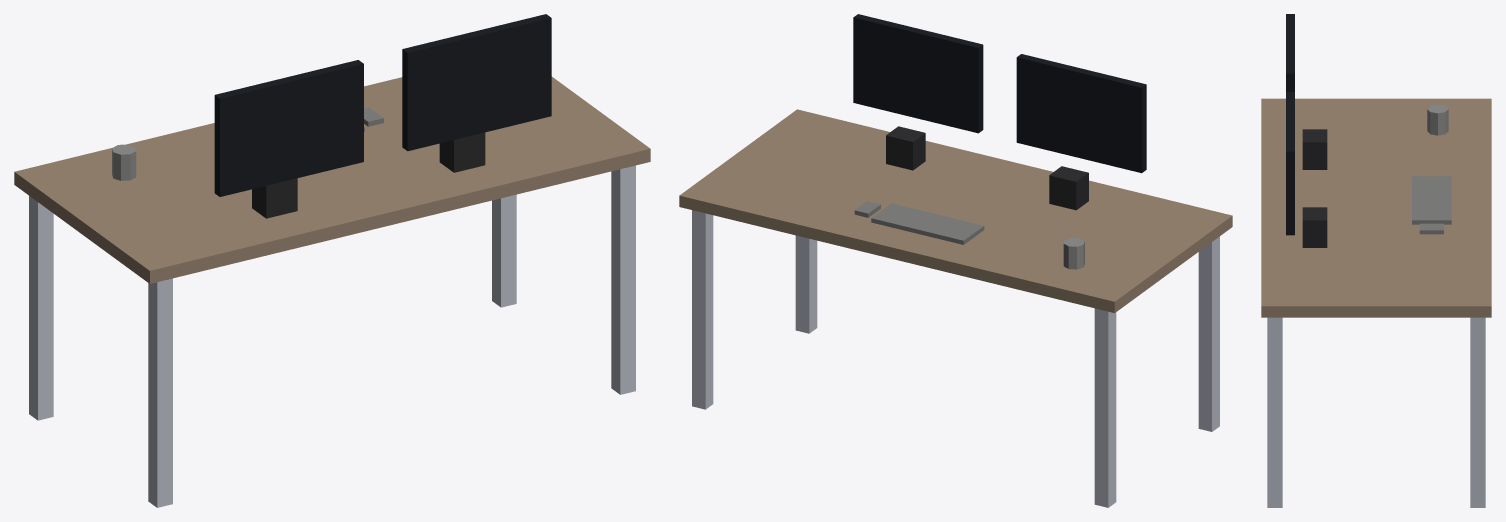
File: welt_schreibtisch.glb
The picture shows the model from 3 angles, left to right: view 1: azimuth 30°, elevation 25°; view 2: azimuth 150°, elevation 25°; view 3: azimuth 270°, elevation 25°; orthographic projection. The views are drawn at different scales.
Parts seen in each view (by area): view 1: platte, monitor_screen_1, monitor_screen_0, bein_0, bein_1, bein_2, bein_3, monitor_fuss_1, monitor_fuss_0, tasse; view 2: platte, monitor_screen_1, monitor_screen_0, bein_2, bein_3, bein_0, tastatur, bein_1, monitor_fuss_0, monitor_fuss_1, tasse; view 3: platte, bein_1, bein_3, tastatur, monitor_screen_1, monitor_fuss_0, monitor_fuss_1, monitor_screen_0, tasse, maus.
Part boxes in pixels (bbox=[...]): platte: bbox=[14, 76, 650, 283]; monitor_screen_1: bbox=[402, 14, 551, 151]; monitor_screen_0: bbox=[214, 60, 363, 196]; bein_0: bbox=[148, 278, 172, 507]; bein_1: bbox=[611, 165, 635, 394]; bein_2: bbox=[29, 196, 53, 420]; bein_3: bbox=[492, 194, 516, 307]; monitor_fuss_1: bbox=[439, 132, 485, 172]; monitor_fuss_0: bbox=[252, 178, 297, 218]; tasse: bbox=[112, 144, 136, 180]; platte: bbox=[679, 109, 1232, 313]; monitor_screen_1: bbox=[853, 14, 983, 133]; monitor_screen_0: bbox=[1016, 54, 1146, 173]; bein_2: bbox=[1094, 308, 1116, 507]; bein_3: bbox=[692, 210, 713, 409]; bein_0: bbox=[1198, 236, 1219, 431]; tastatur: bbox=[871, 203, 984, 244]; bein_1: bbox=[795, 235, 817, 333]; monitor_fuss_0: bbox=[1049, 166, 1088, 210]; monitor_fuss_1: bbox=[886, 126, 925, 170]; tasse: bbox=[1063, 238, 1084, 269]; platte: bbox=[1261, 98, 1491, 317]; bein_1: bbox=[1267, 317, 1282, 507]; bein_3: bbox=[1470, 317, 1485, 507]; tastatur: bbox=[1412, 176, 1451, 224]; monitor_screen_1: bbox=[1286, 92, 1294, 235]; monitor_fuss_0: bbox=[1302, 129, 1327, 169]; monitor_fuss_1: bbox=[1302, 207, 1327, 247]; monitor_screen_0: bbox=[1286, 14, 1294, 91]; tasse: bbox=[1427, 104, 1448, 135]; maus: bbox=[1419, 223, 1443, 234].
Size of the model in its own units: 1.6 by 1.17 by 0.75.
